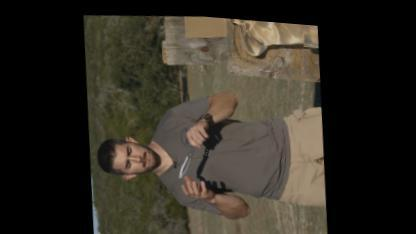knife: (172, 121, 214, 180)
